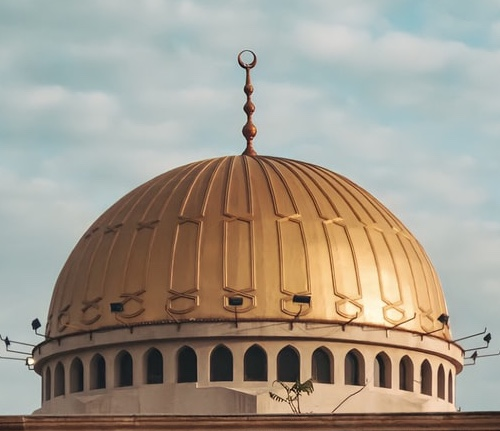Mosque: (6, 47, 496, 426)
